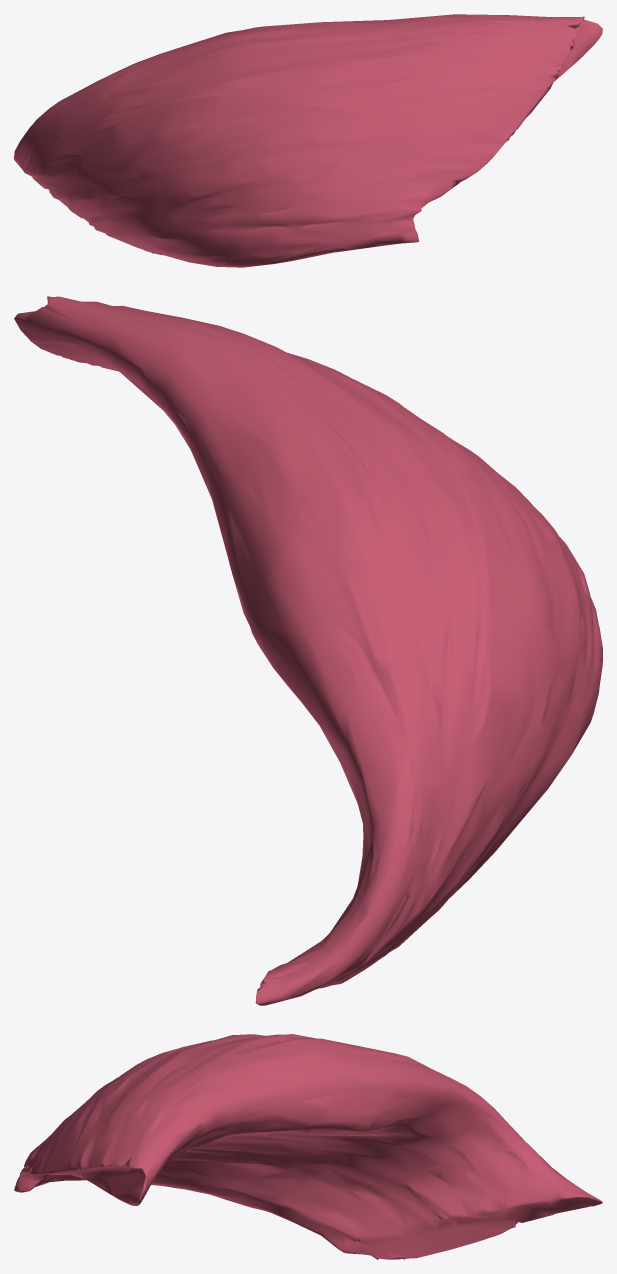
3 views of the same model, one above another, from view 1: azimuth 30°, elevation 25°; view 2: azimuth 150°, elevation 25°; view 3: azimuth 270°, elevation 25° (orthographic). The views are drawn at different scales.
Parts seen in each view (by area): view 1: 右侧三角肌肩胛冈部; view 2: 右侧三角肌肩胛冈部; view 3: 右侧三角肌肩胛冈部.
Part boxes in pixels (x1,y1,x2,y2): 右侧三角肌肩胛冈部: (14,14,602,267); 右侧三角肌肩胛冈部: (14,296,602,1005); 右侧三角肌肩胛冈部: (14,1034,602,1259).
Bounding box in the file's own units: 0.2015 × 0.118 × 0.2305.
